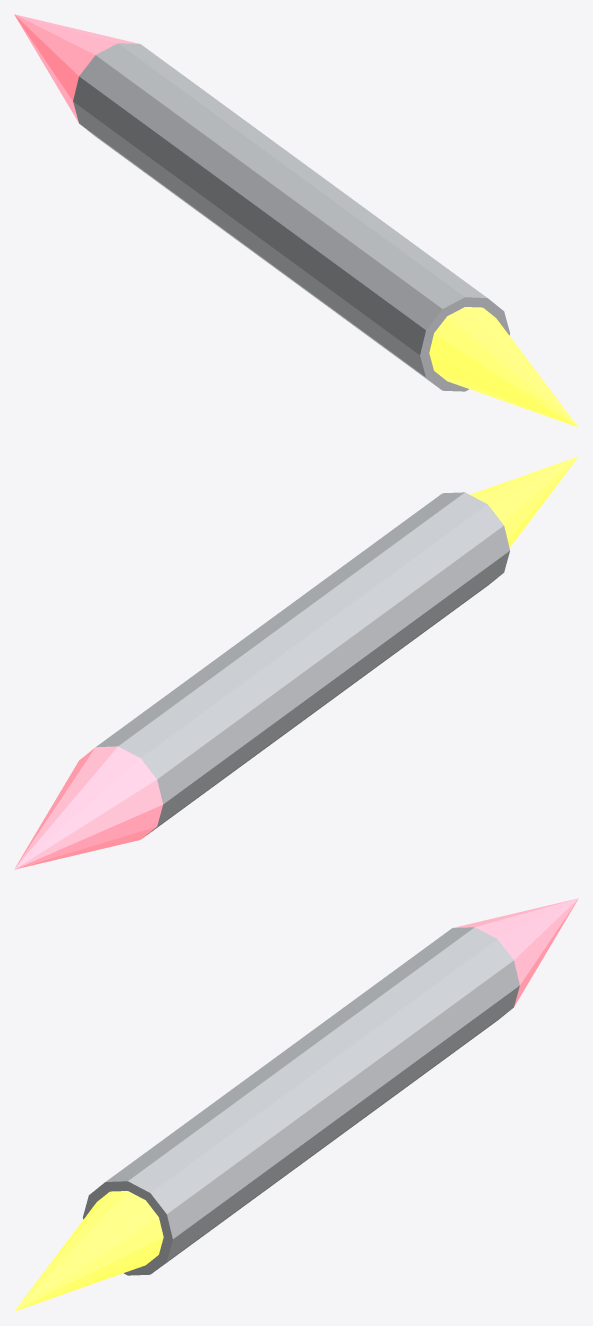
The model's file is Misil_Tactico.glb.
3 renders of one model, top to bottom at view 1: azimuth 30°, elevation 25°; view 2: azimuth 150°, elevation 25°; view 3: azimuth 330°, elevation 25°, orthographic.
Visible parts, largest first — view 1: Cylinder, propulsor, Cone; view 2: Cylinder, Cone, propulsor; view 3: Cylinder, propulsor, Cone.
Boxes of the visible parts, x1,y1,x2,y2 form: Cylinder: [73, 43, 509, 391]; propulsor: [429, 307, 578, 427]; Cone: [14, 14, 139, 122]; Cylinder: [96, 492, 509, 837]; Cone: [14, 746, 162, 869]; propulsor: [470, 456, 578, 547]; Cylinder: [83, 927, 519, 1275]; propulsor: [14, 1191, 163, 1311]; Cone: [453, 898, 578, 1006].
Size of the model in its own units: 0.24 by 0.24 by 2.6.
